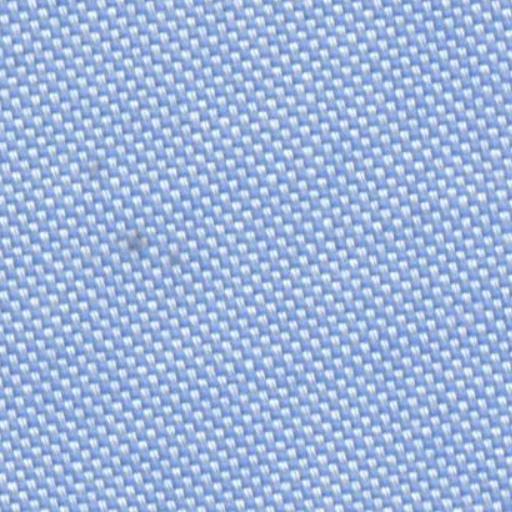WuZi: (113, 218, 188, 274), (70, 150, 117, 186)
